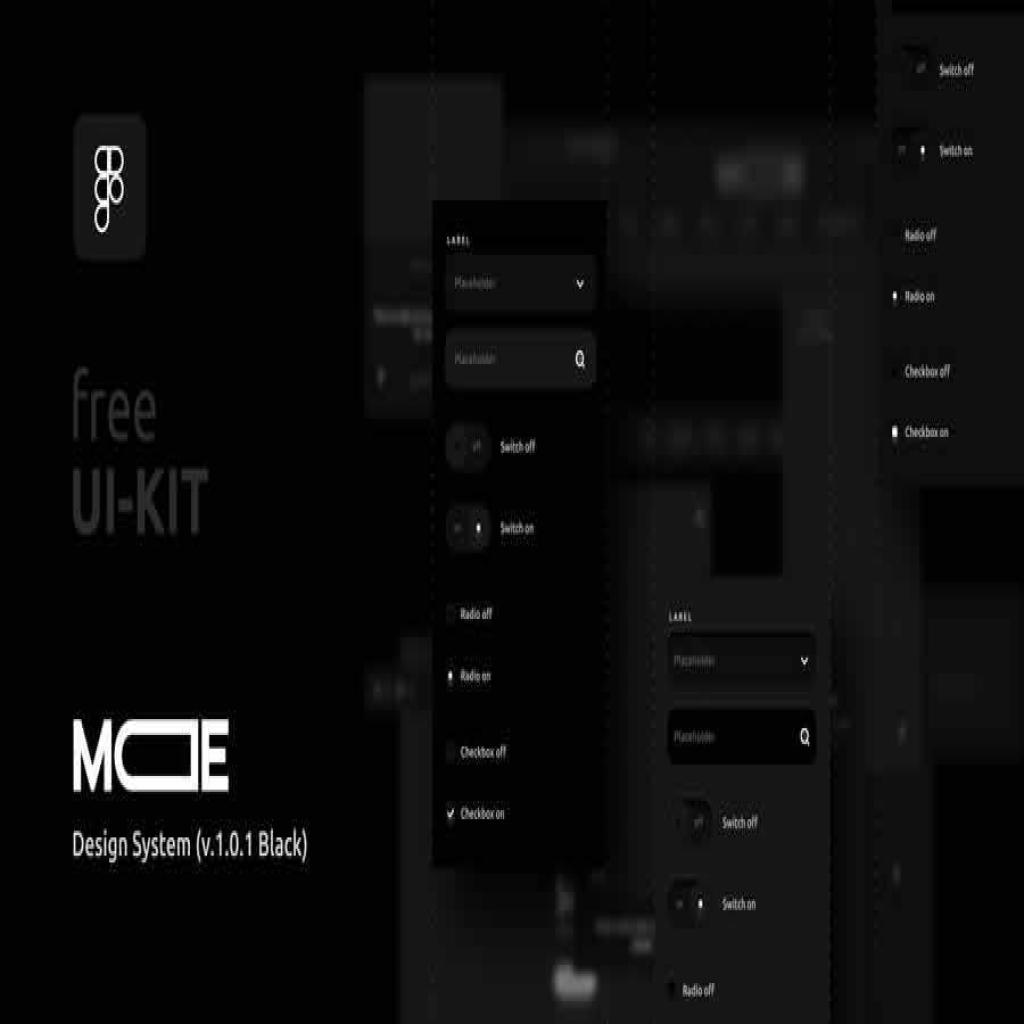checkbox: (446, 739, 457, 767), (447, 803, 455, 826)
dropdown: (442, 253, 598, 314), (668, 633, 816, 694)
input: (664, 708, 817, 767), (444, 328, 596, 387), (444, 423, 495, 471)
radio: (665, 978, 678, 1004), (446, 662, 457, 692), (445, 601, 457, 626)
switch: (668, 797, 712, 851), (667, 876, 711, 929), (448, 505, 490, 553)
